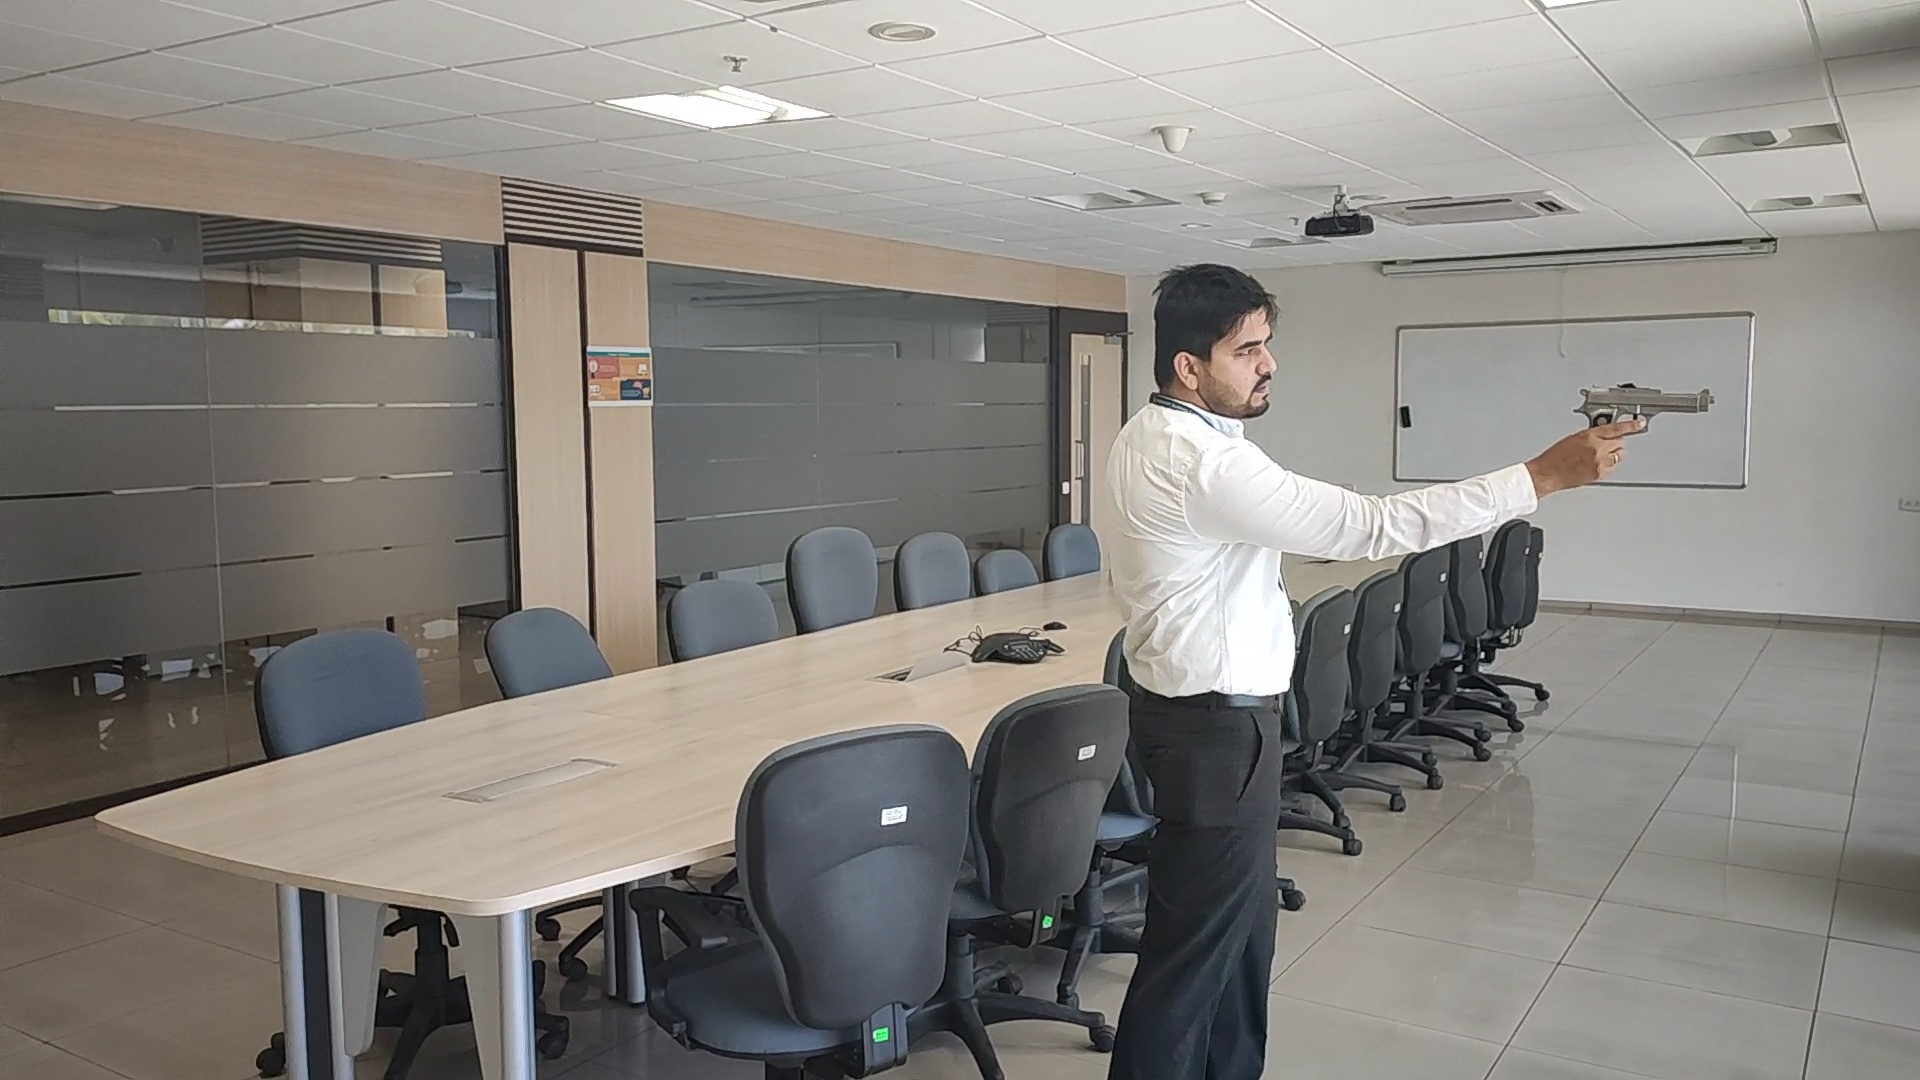gun: (1572, 382, 1717, 419)
